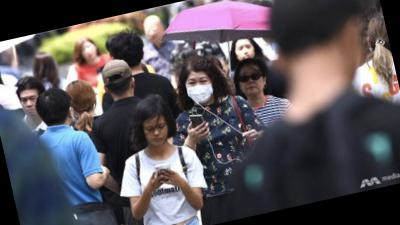with_mask: (182, 73, 217, 108)
without_mask: (236, 68, 267, 99), (142, 119, 171, 149), (18, 92, 43, 120), (234, 40, 259, 63), (80, 42, 99, 64)
